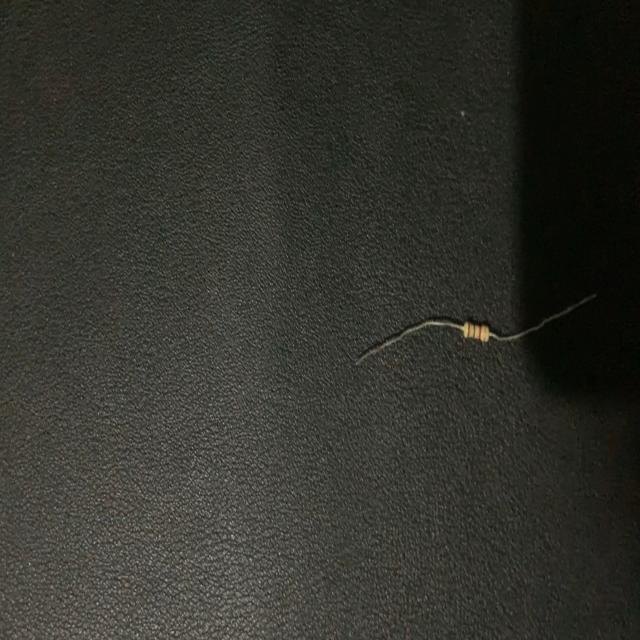resistor: (355, 293, 600, 361)
